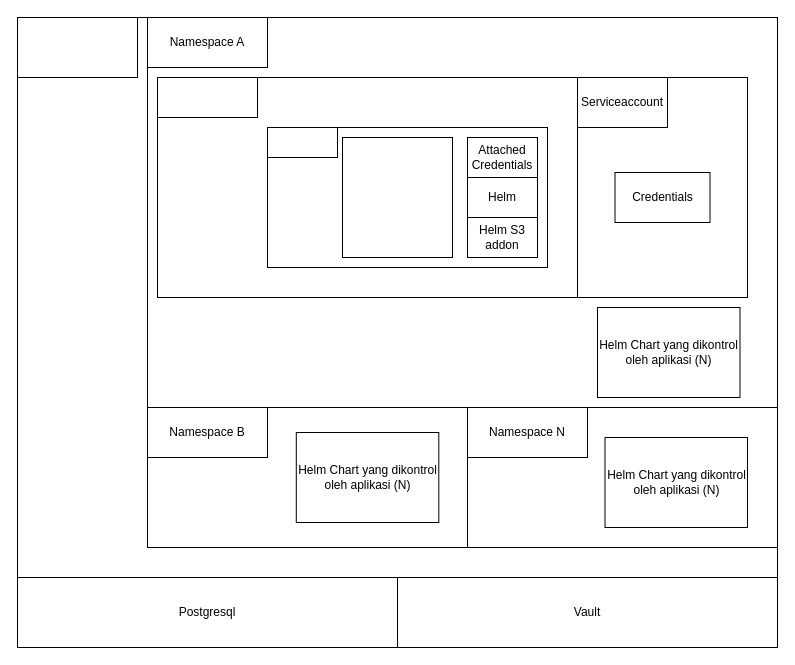
Some shapes in this 795 by 665 pixel diagram are drawn without their labels. Each missing label, with the centre of its shape:
"Aplikasi (go)" goes at (x=397, y=197).
"Deployment" goes at (x=207, y=97).
"Kontainer" goes at (x=302, y=142).
"Kubernetes" goes at (x=77, y=47).
